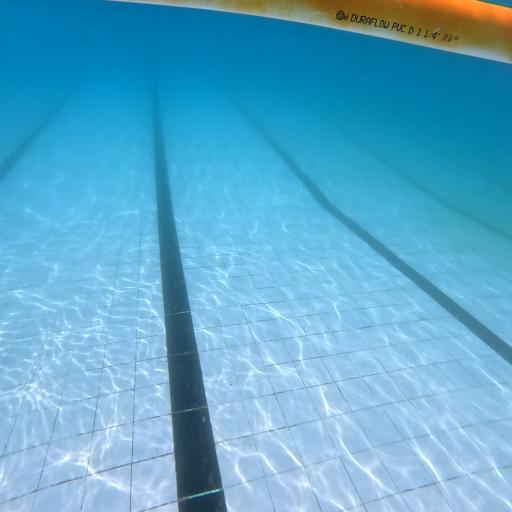upper_gate: (107, 0, 511, 65)
